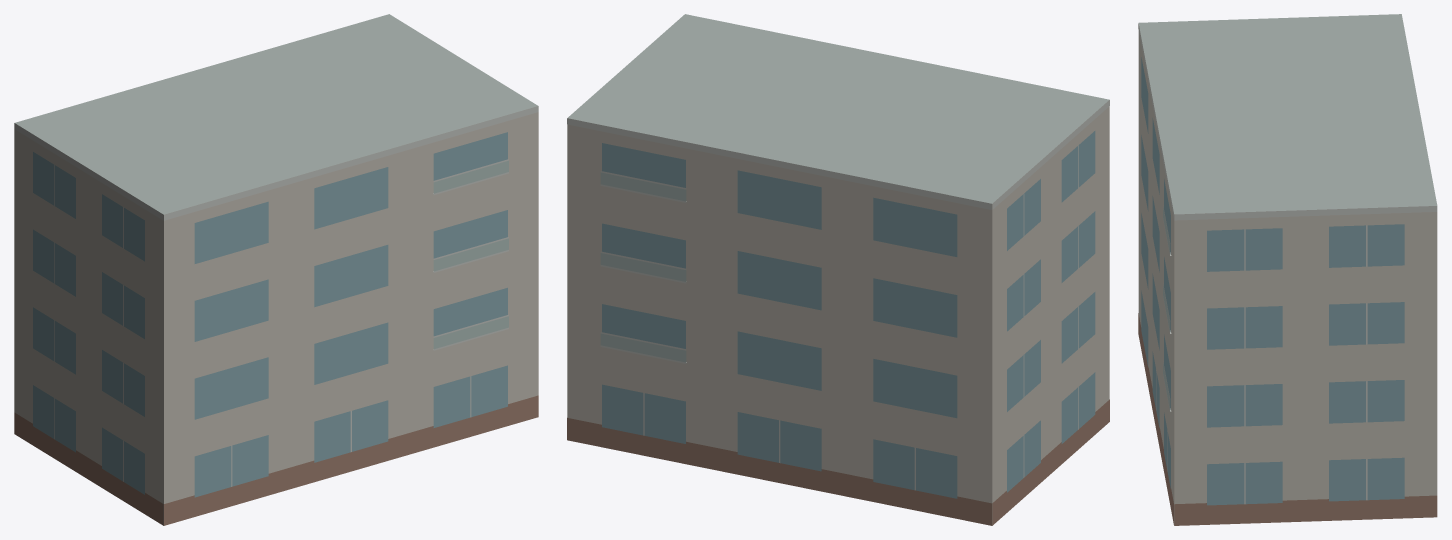
The model's file is survey-upis-32816711.glb.
3 renders of one model, left to right at view 1: azimuth 30°, elevation 25°; view 2: azimuth 150°, elevation 25°; view 3: azimuth 270°, elevation 25°, orthographic. The views are drawn at different scales.
Parts seen in each view (by area): view 1: survey-upis-32816711.tmp; view 2: survey-upis-32816711.tmp; view 3: survey-upis-32816711.tmp.
Boxes of the visible parts, x1,y1,x2,y2 form: survey-upis-32816711.tmp: (14,14,538,525); survey-upis-32816711.tmp: (567,14,1109,525); survey-upis-32816711.tmp: (1138,14,1437,525).
Size of the model in its own units: 17.13 by 12.4 by 10.8.
